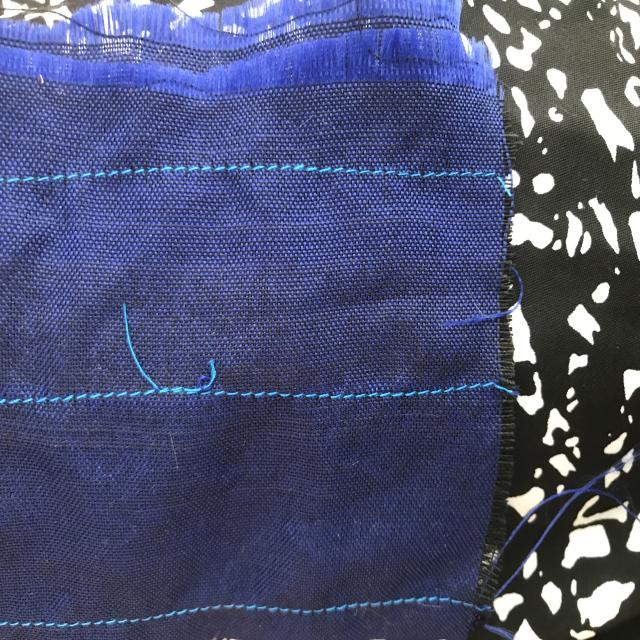good: (259, 374, 459, 416), (318, 157, 477, 194), (69, 159, 247, 188), (21, 390, 143, 410)
